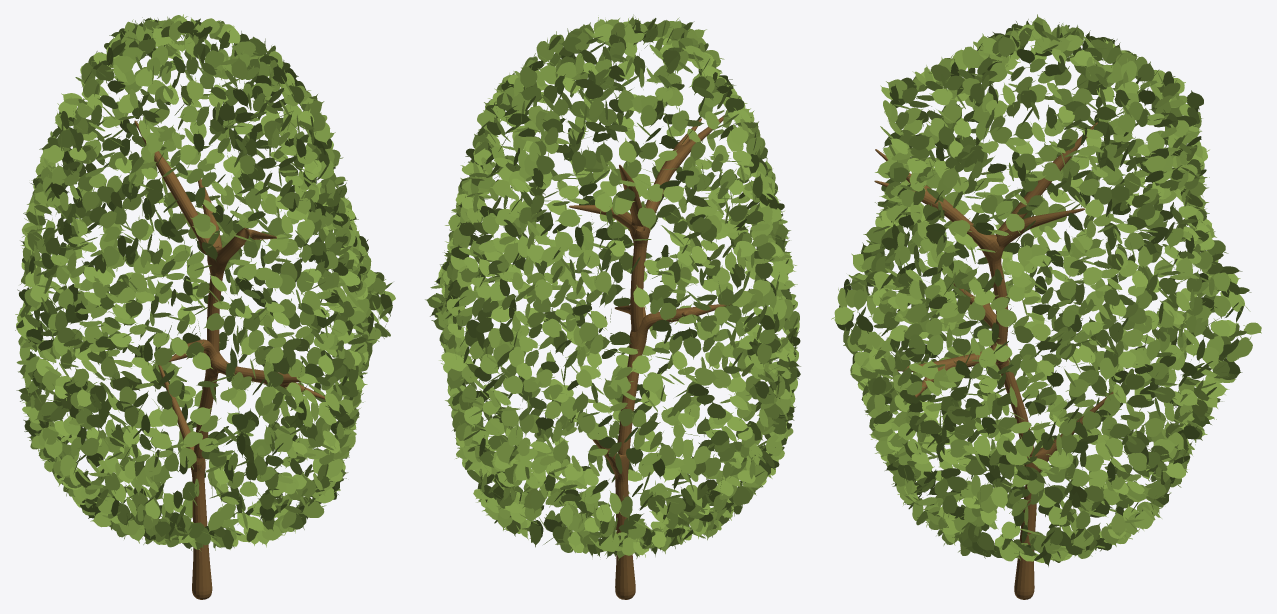
Rendered from corylus.fbx.
3 views of the same model, side by side, from view 1: azimuth 30°, elevation 25°; view 2: azimuth 150°, elevation 25°; view 3: azimuth 270°, elevation 25° (orthographic). The views are drawn at different scales.
Visible parts, largest first — view 1: MI_LOD1_002.001; view 2: MI_LOD1_002.001; view 3: MI_LOD1_002.001.
Part boxes in pixels (left/top/right/bottom): MI_LOD1_002.001: left=15, top=14, right=395, bottom=599; MI_LOD1_002.001: left=425, top=14, right=800, bottom=599; MI_LOD1_002.001: left=831, top=14, right=1261, bottom=599.
Size of the model in its own units: 228 by 358 by 243.
